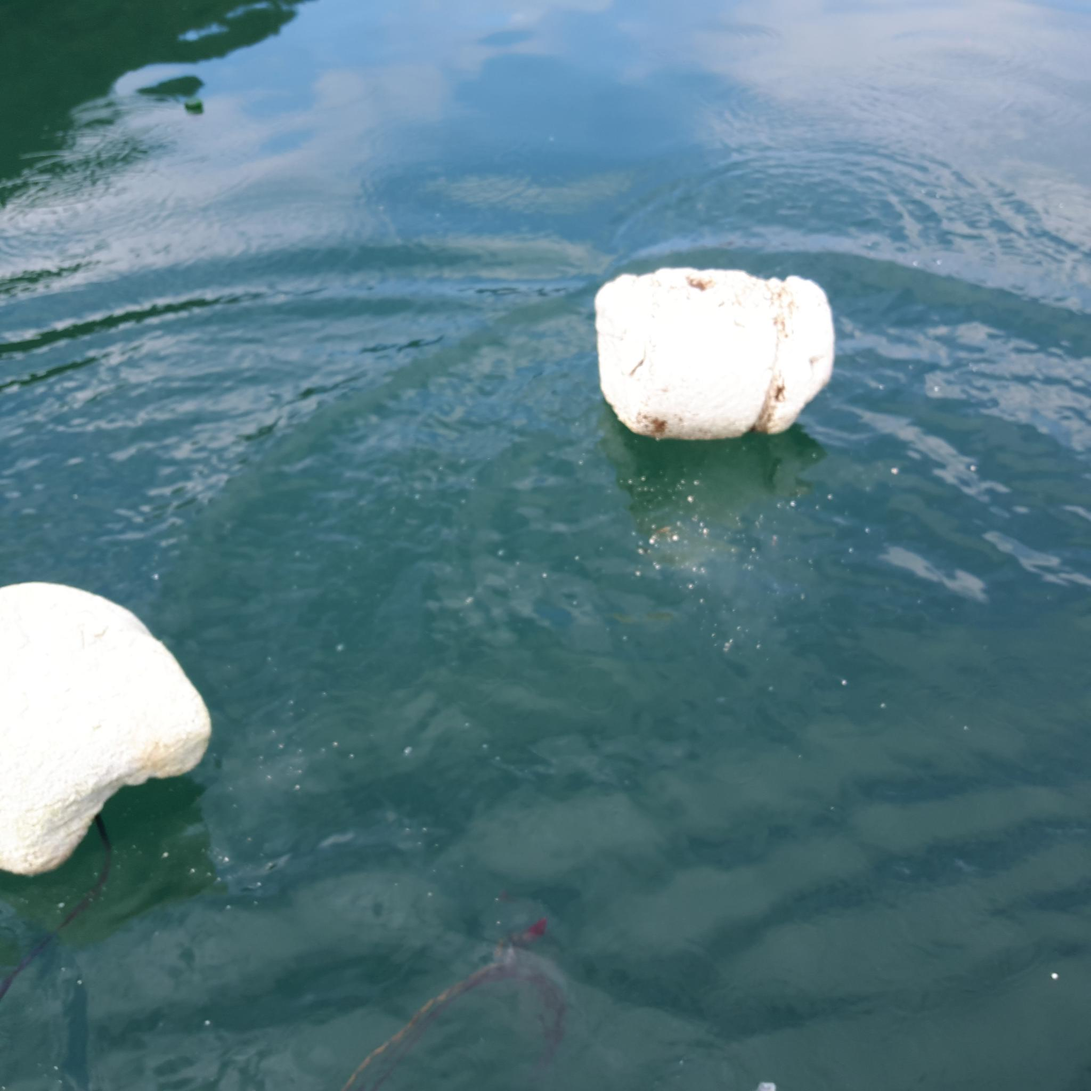sampah_terapung: (1, 811, 567, 1091), (1, 581, 213, 877), (592, 266, 837, 441)
